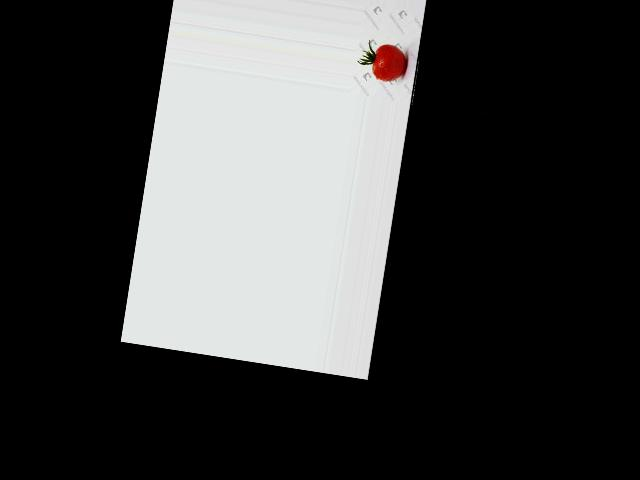tomato: (371, 42, 409, 82)
